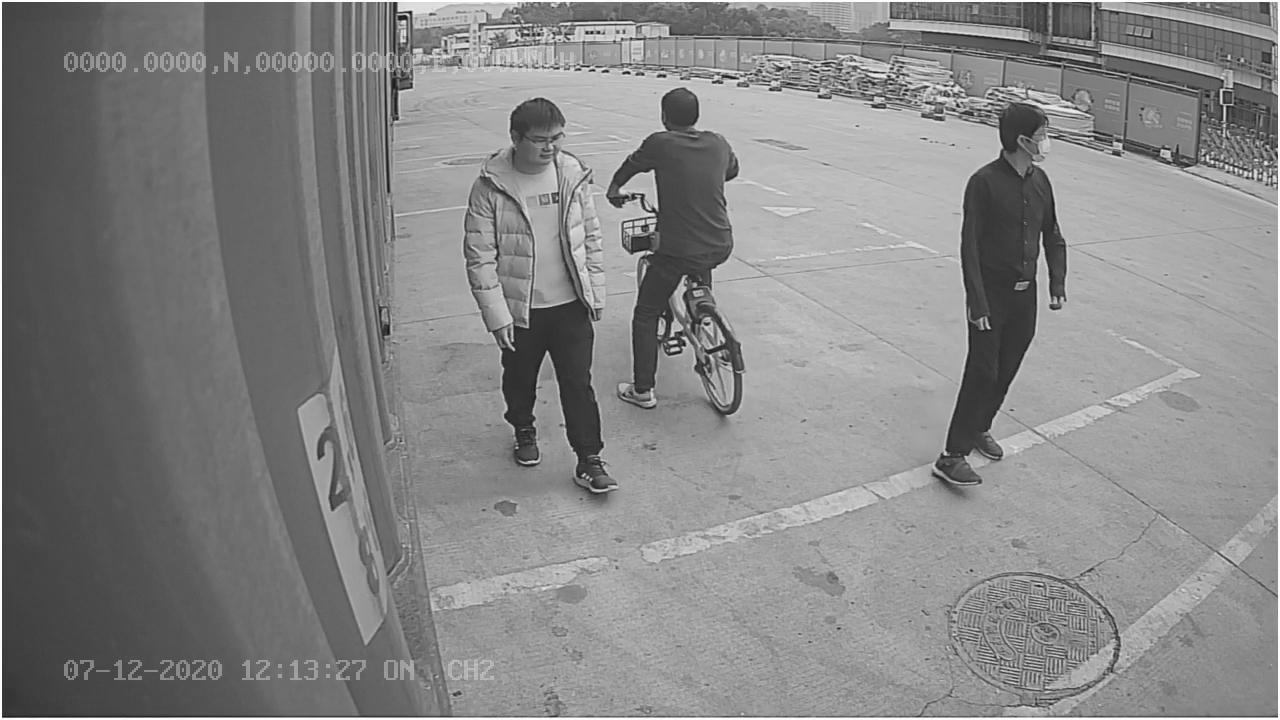person: (458, 95, 619, 506), (930, 101, 1069, 491)
